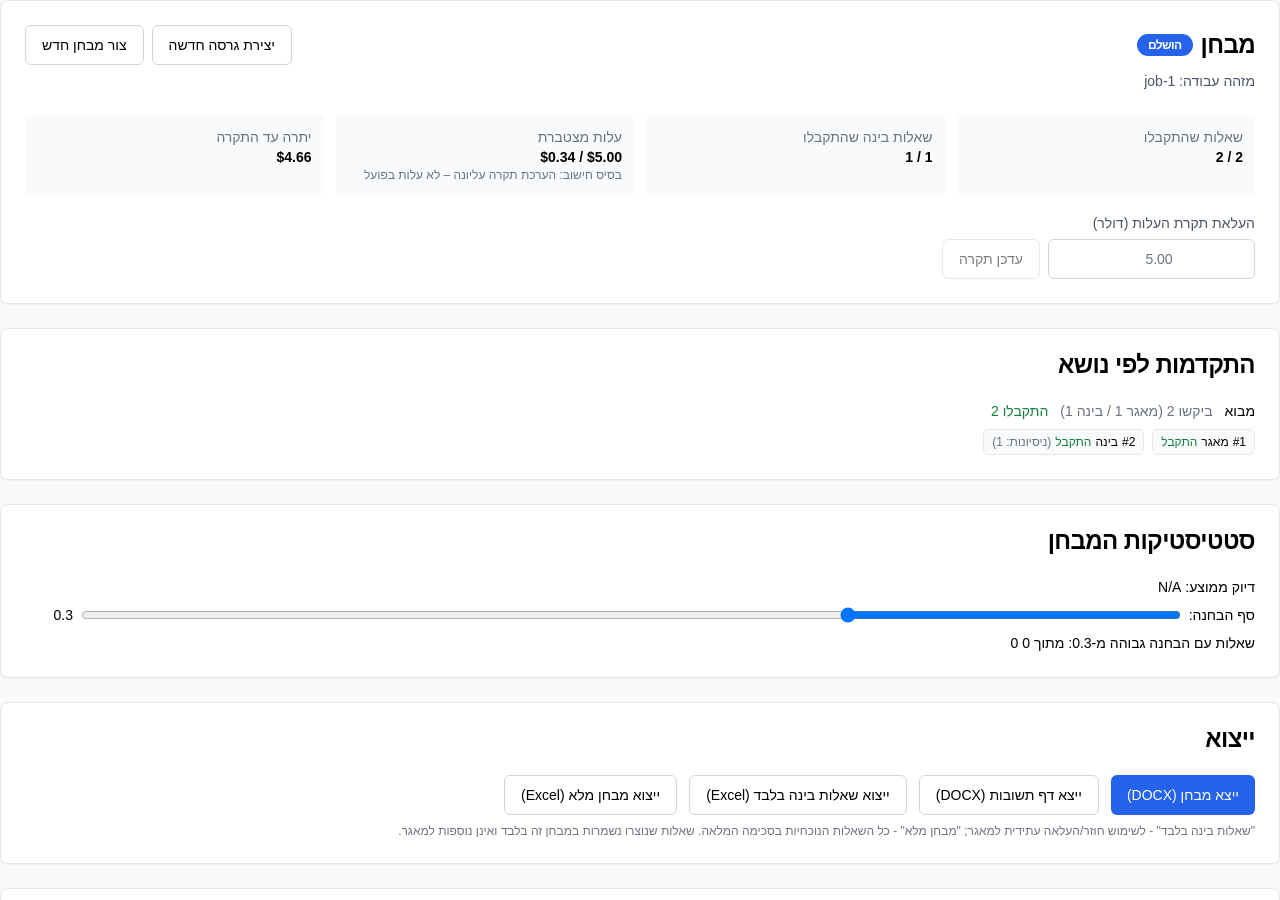
WP28 - export confirmation when unresolved warnings remain › asks for confirmation before each export when an unresolved warning exists
The width and height of the screenshot is (1280, 900).
Expected: the text with test id "job-status" reads "הושלם", x1=1148 y1=38 x2=1182 y2=52
Click the button "ייצא מבחן (DOCX)" at (1183, 795), box x1=1111 y1=775 x2=1255 y2=815
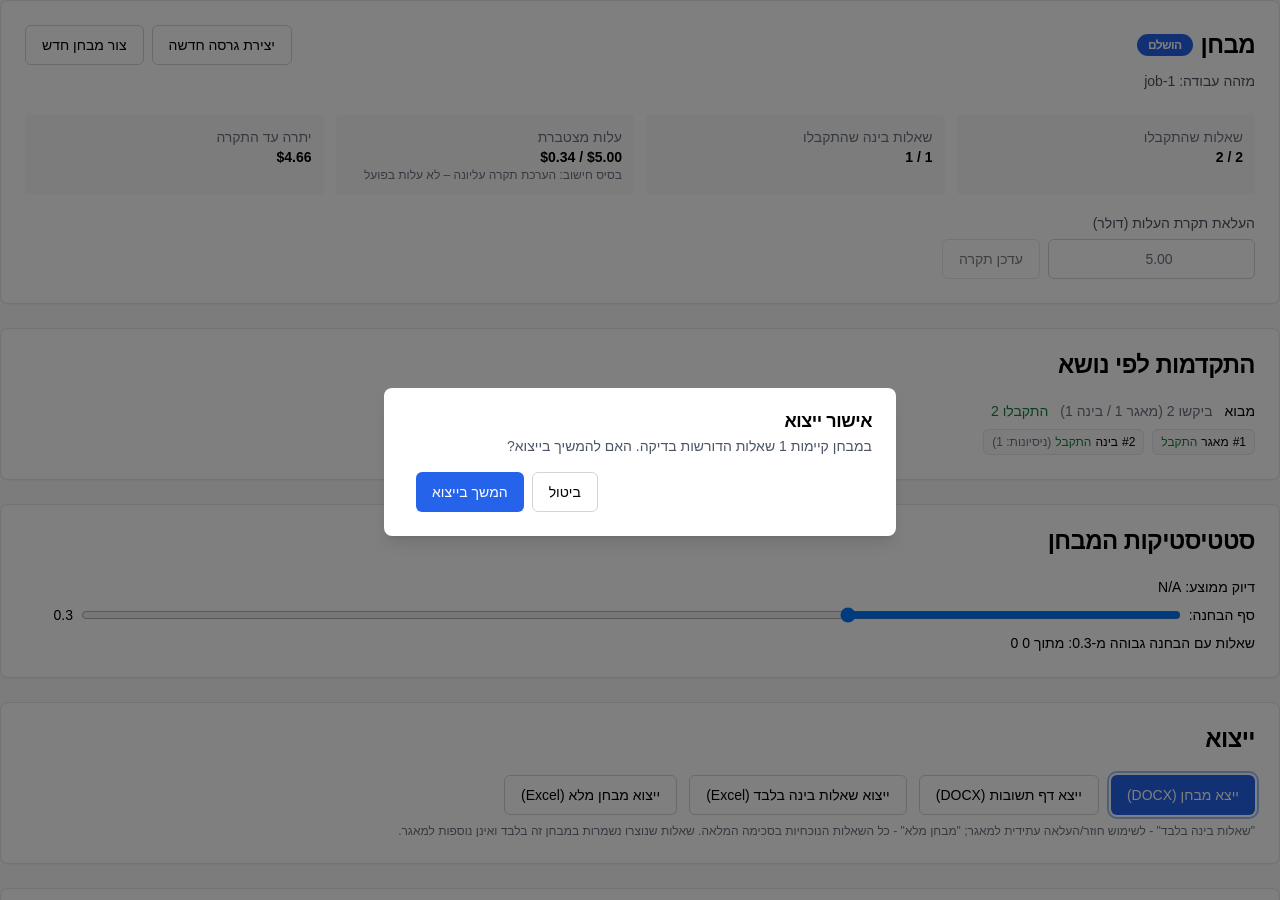
Expected: the text with test id "export-confirm-message" shows "1 שאלות", x1=507 y1=438 x2=872 y2=454
